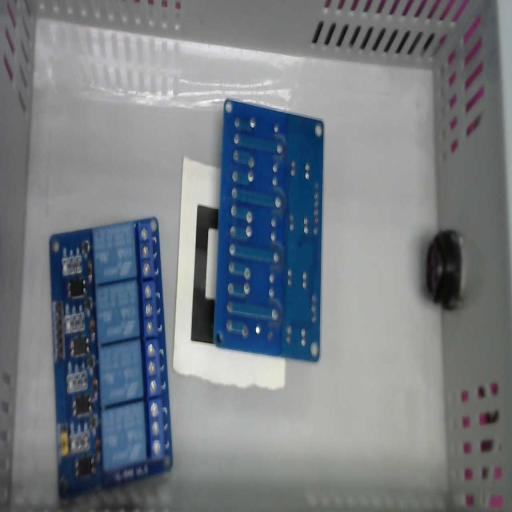QR: (190, 204, 219, 344)
relay_module: (49, 216, 173, 500), (214, 100, 324, 361)
